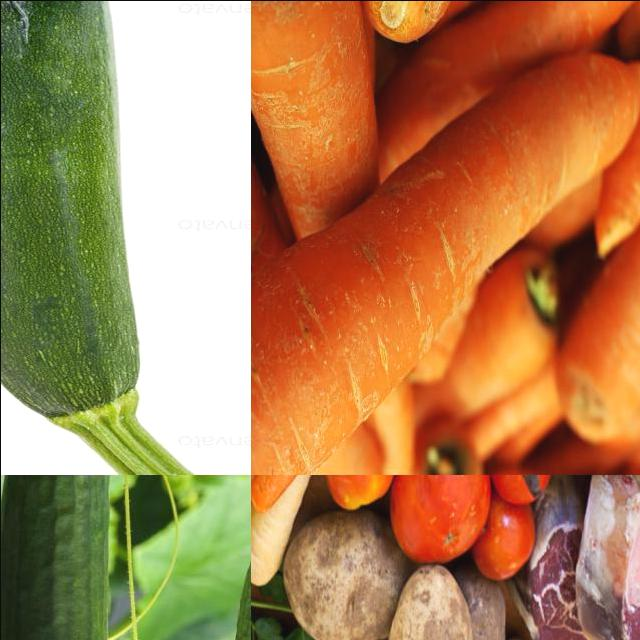carrot: (251, 68, 640, 475), (251, 1, 419, 475), (251, 1, 382, 475), (562, 100, 640, 440), (371, 426, 484, 475)
cucumber: (1, 475, 120, 640)
potato: (293, 524, 404, 640), (397, 563, 463, 640), (457, 581, 502, 640)
tomato: (394, 475, 483, 569), (482, 499, 530, 587), (319, 475, 398, 507)
zucchini: (1, 1, 170, 417)
